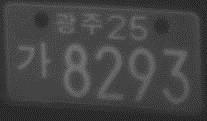2: (95, 46, 124, 100), (105, 14, 127, 40)
3: (161, 47, 190, 105)
5: (130, 15, 147, 40)
8: (62, 42, 92, 98)
9: (128, 46, 155, 100)
가: (16, 41, 51, 78)
광주_O: (56, 12, 103, 35)
